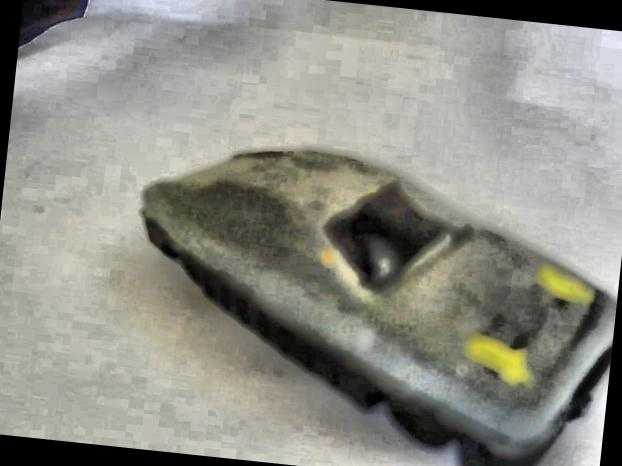normal_car: (108, 124, 622, 466)
